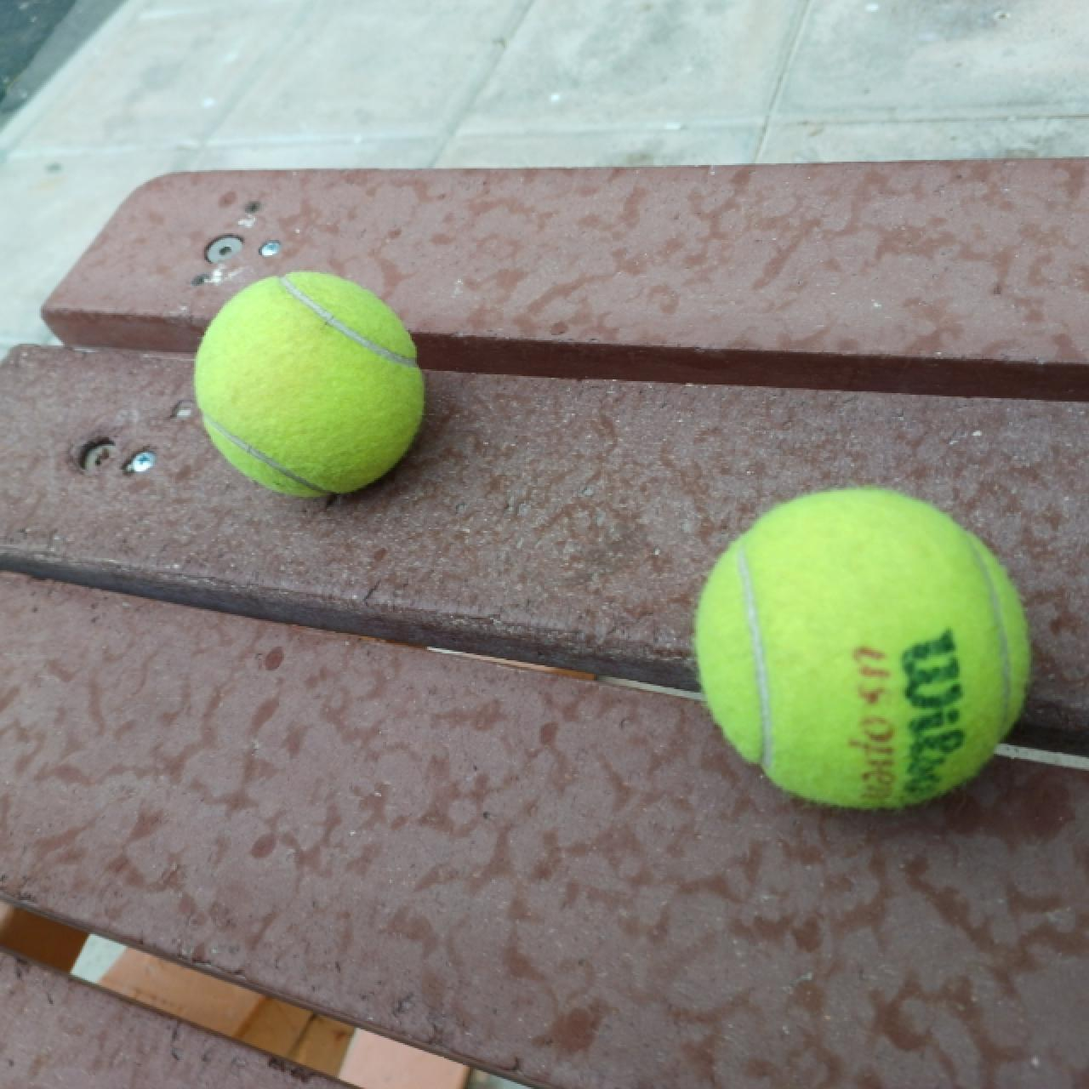tennis-ball: (694, 484, 1032, 815), (197, 269, 425, 501)
